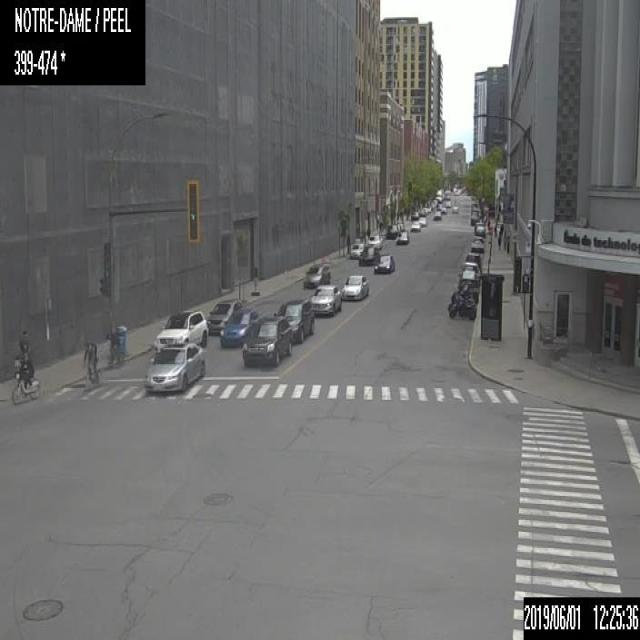cyclist: (9, 354, 41, 402), (105, 322, 126, 370), (82, 339, 98, 381)
pedestrian: (18, 330, 28, 360), (497, 232, 501, 250), (346, 232, 349, 252), (502, 235, 506, 249), (498, 227, 502, 238)
vehicle: (144, 341, 204, 392), (242, 316, 291, 364), (152, 308, 208, 348), (273, 298, 314, 343), (220, 306, 258, 345), (205, 298, 242, 334), (309, 284, 341, 316), (339, 274, 368, 299), (449, 294, 476, 319), (303, 263, 329, 287), (448, 290, 476, 311), (358, 245, 379, 265), (457, 269, 479, 288), (456, 282, 478, 301), (374, 254, 394, 273), (349, 242, 365, 258), (367, 233, 381, 249), (469, 243, 484, 256), (395, 229, 408, 244), (461, 261, 480, 271), (465, 252, 479, 264), (385, 224, 397, 238), (435, 187, 443, 202), (410, 220, 420, 231), (473, 220, 482, 232), (470, 213, 479, 224), (472, 235, 484, 243), (470, 207, 479, 216), (475, 225, 484, 234), (433, 210, 441, 220), (410, 210, 418, 219), (418, 216, 426, 225), (450, 204, 458, 212), (418, 208, 425, 216), (444, 189, 450, 198), (440, 206, 446, 213), (470, 202, 476, 208), (435, 203, 441, 209), (445, 200, 450, 206)
